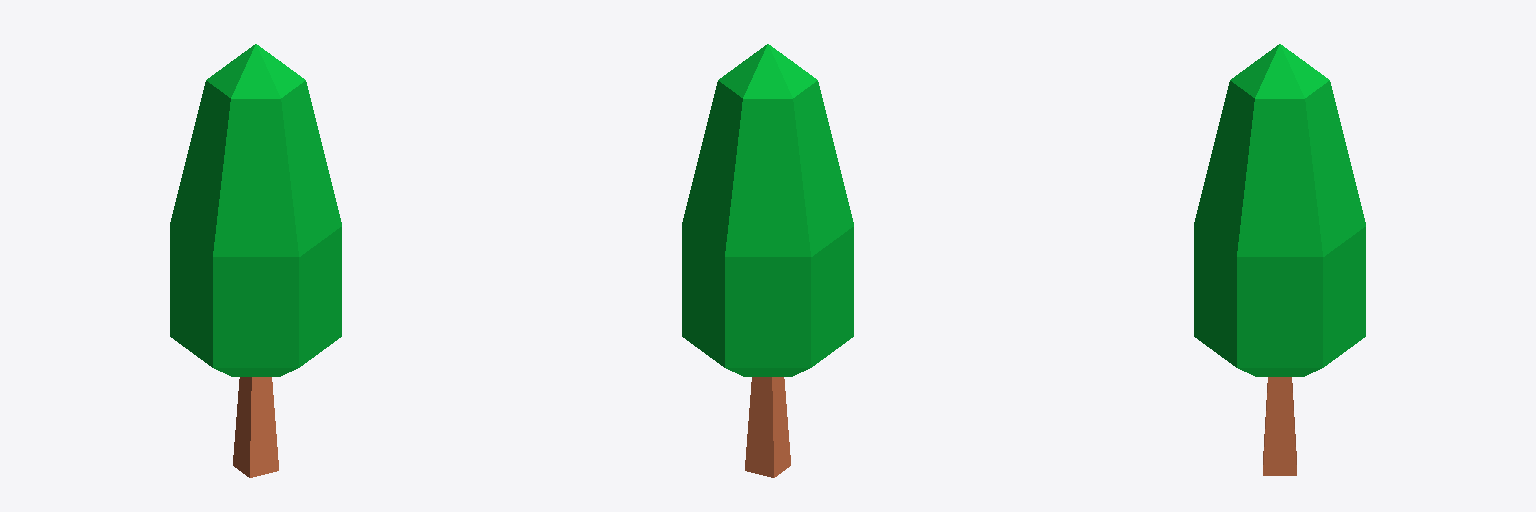
The model's file is tree_small.obj.
The picture shows the model from 3 angles: view 1: azimuth 30°, elevation 25°; view 2: azimuth 150°, elevation 25°; view 3: azimuth 270°, elevation 25°; orthographic projection.
Visible parts, largest first — view 1: tree_small; view 2: tree_small; view 3: tree_small.
Boxes of the visible parts, box(x1,y1,x2,y2) form: tree_small: box(170, 44, 341, 477); tree_small: box(682, 44, 853, 477); tree_small: box(1194, 44, 1365, 475).
Size of the model in its own units: 0.3546 by 1.11 by 0.4095.